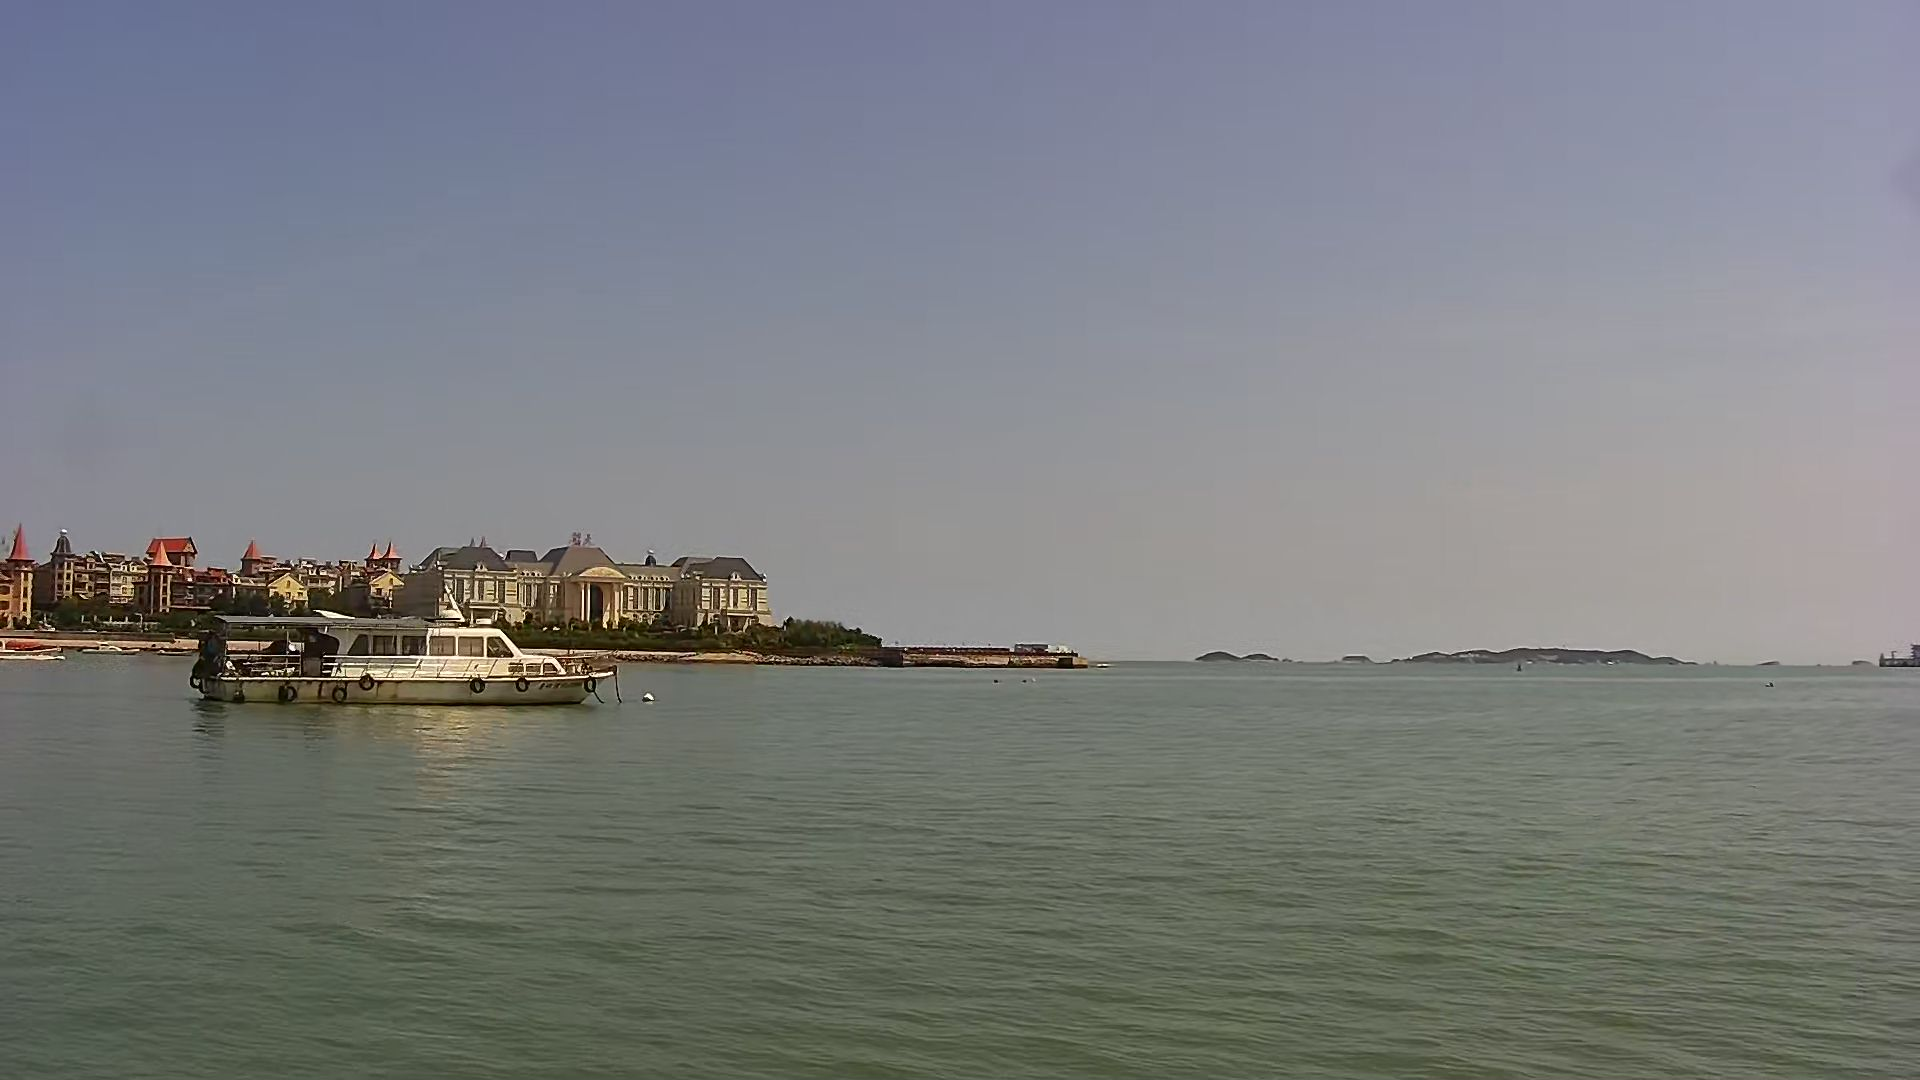ball: (638, 686, 659, 704)
ship: (186, 603, 618, 708)
